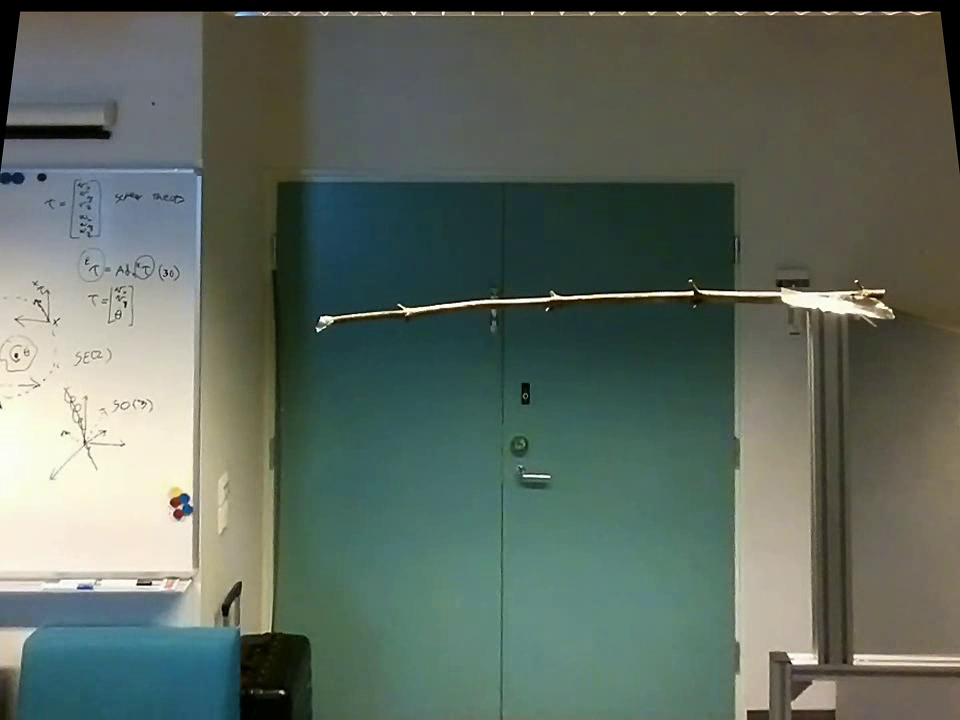aluminum_frame: (803, 310, 861, 662), (188, 165, 207, 578), (1, 563, 206, 599), (790, 644, 956, 682), (2, 160, 205, 176), (766, 648, 795, 717)
branch: (340, 274, 774, 331)
